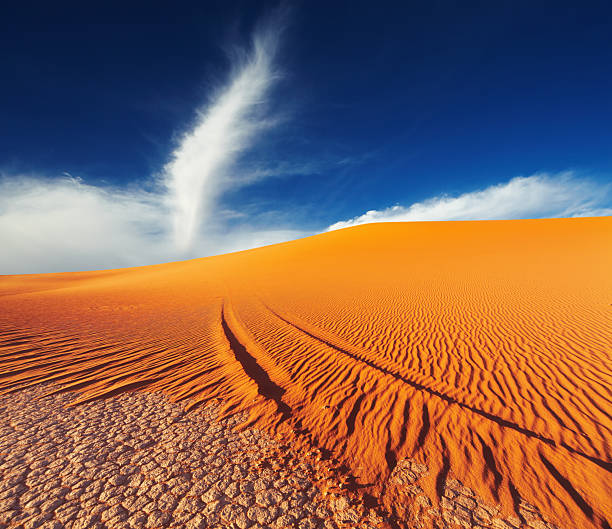vehicle_track: (262, 301, 558, 445), (218, 309, 400, 523)
